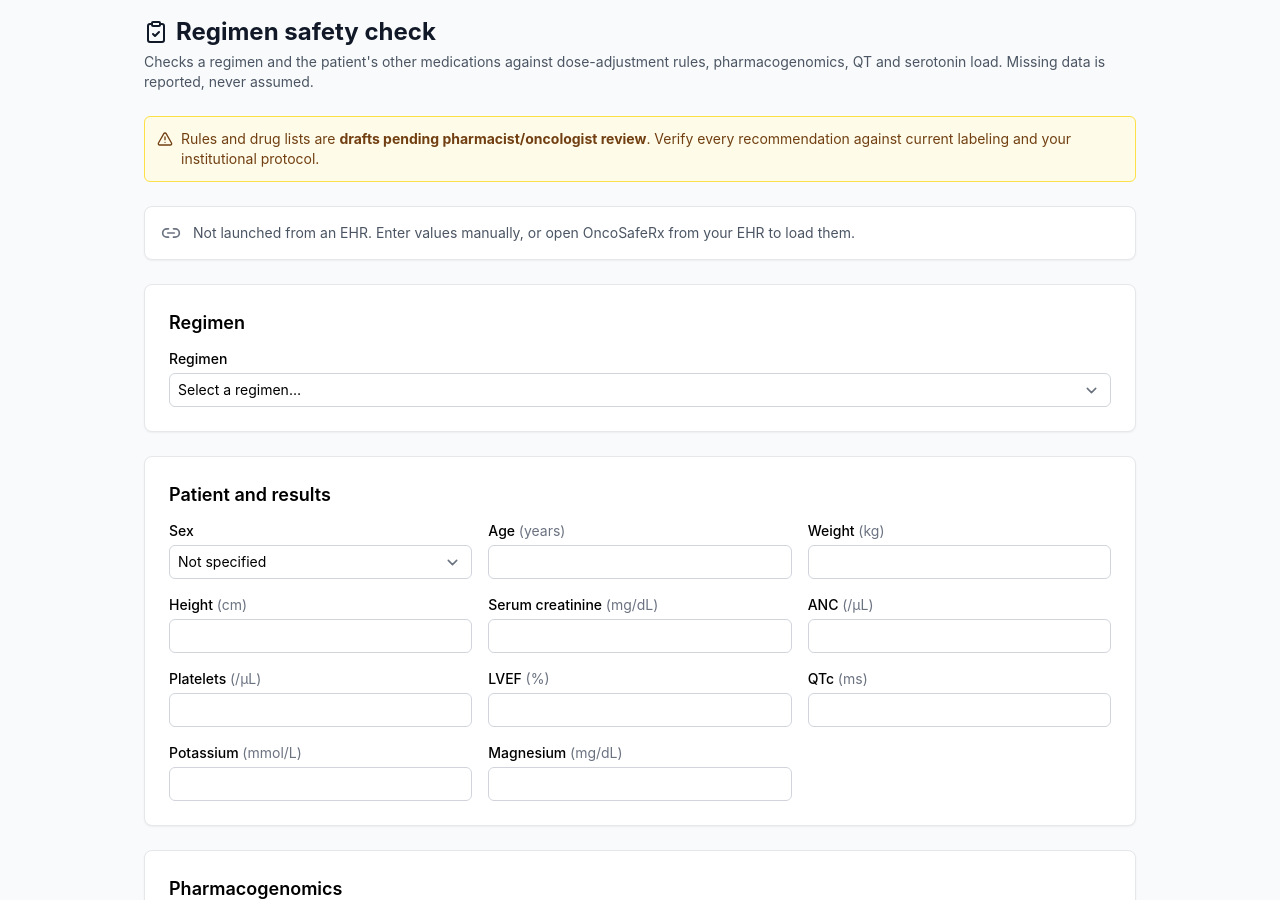
SafetyCheck page › acknowledging records an accept against the rule id and version
Expected: the text "Not launched from an EHR" is shown, [193,224,855,241]
Select "FOLFOX-6 — Colorectal cancer" in the dropdown labelled "Regimen" at point(640, 390), box [169,373,1111,407]
(page scrolled)
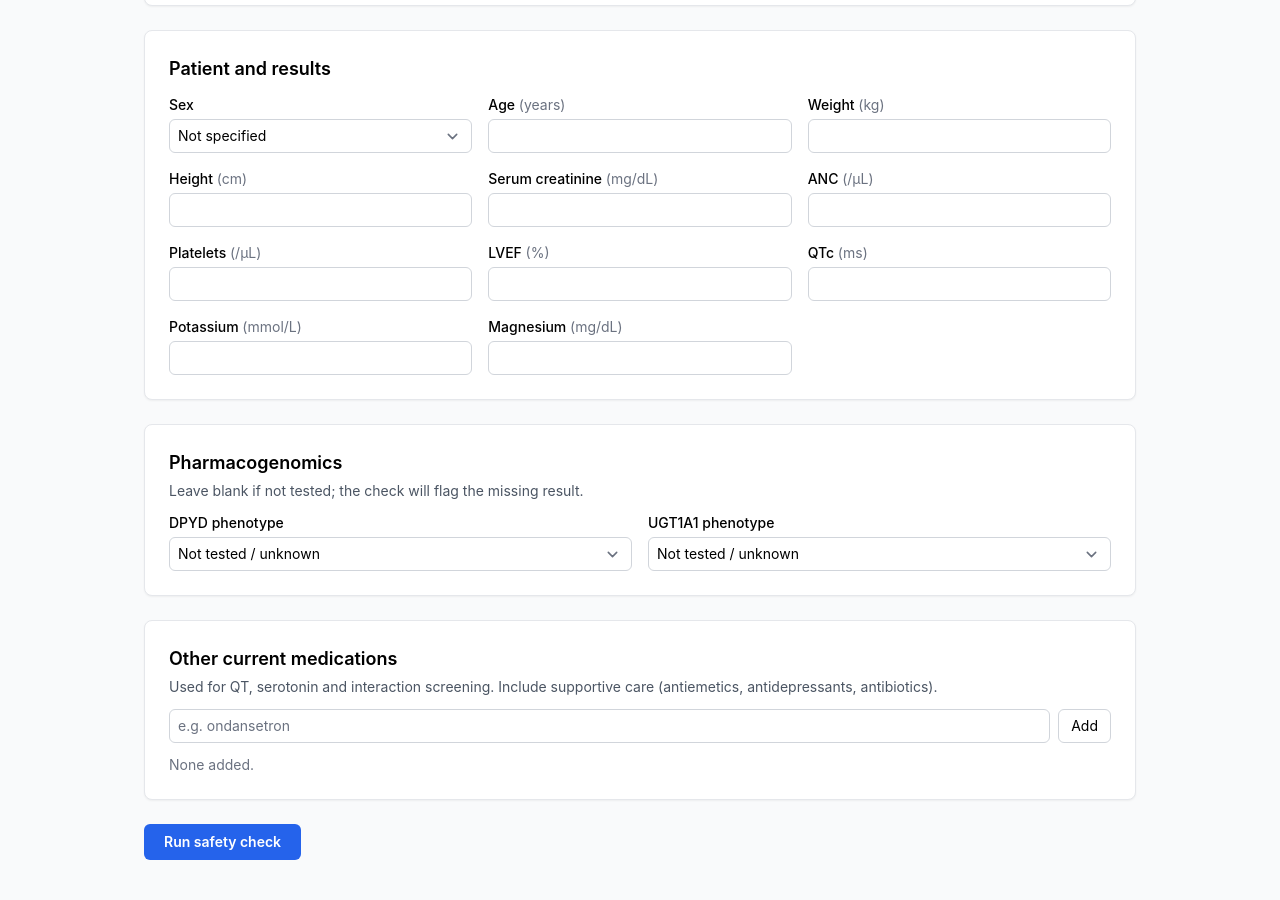
Click the button "Run safety check".
click(223, 842)  # box [144,824,301,860]
(page scrolled)
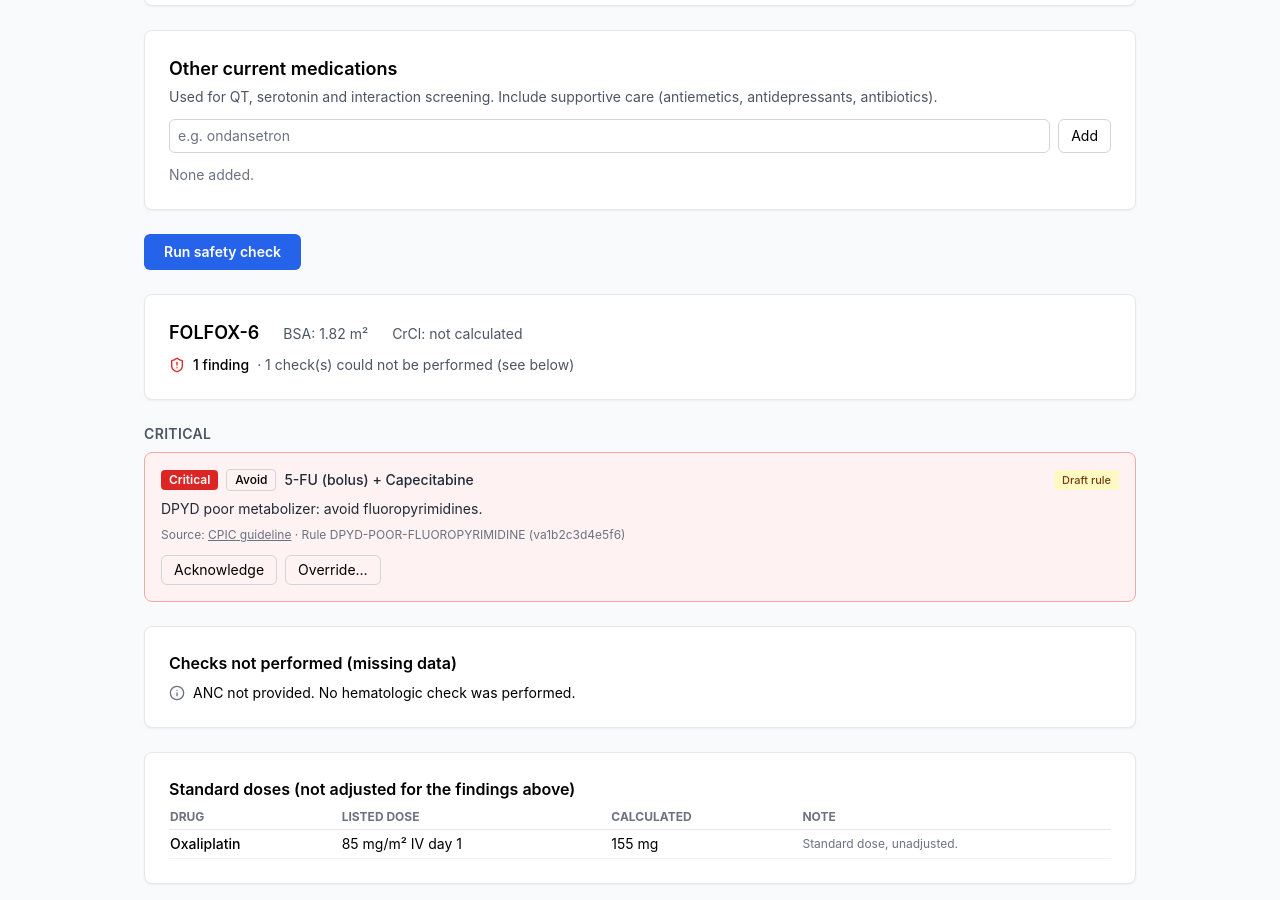
Result: the element with test id "summary" is shown at [169,356,574,373]
Click the button "Acknowledge".
click(219, 570)  # box [161,555,277,585]
(page scrolled)
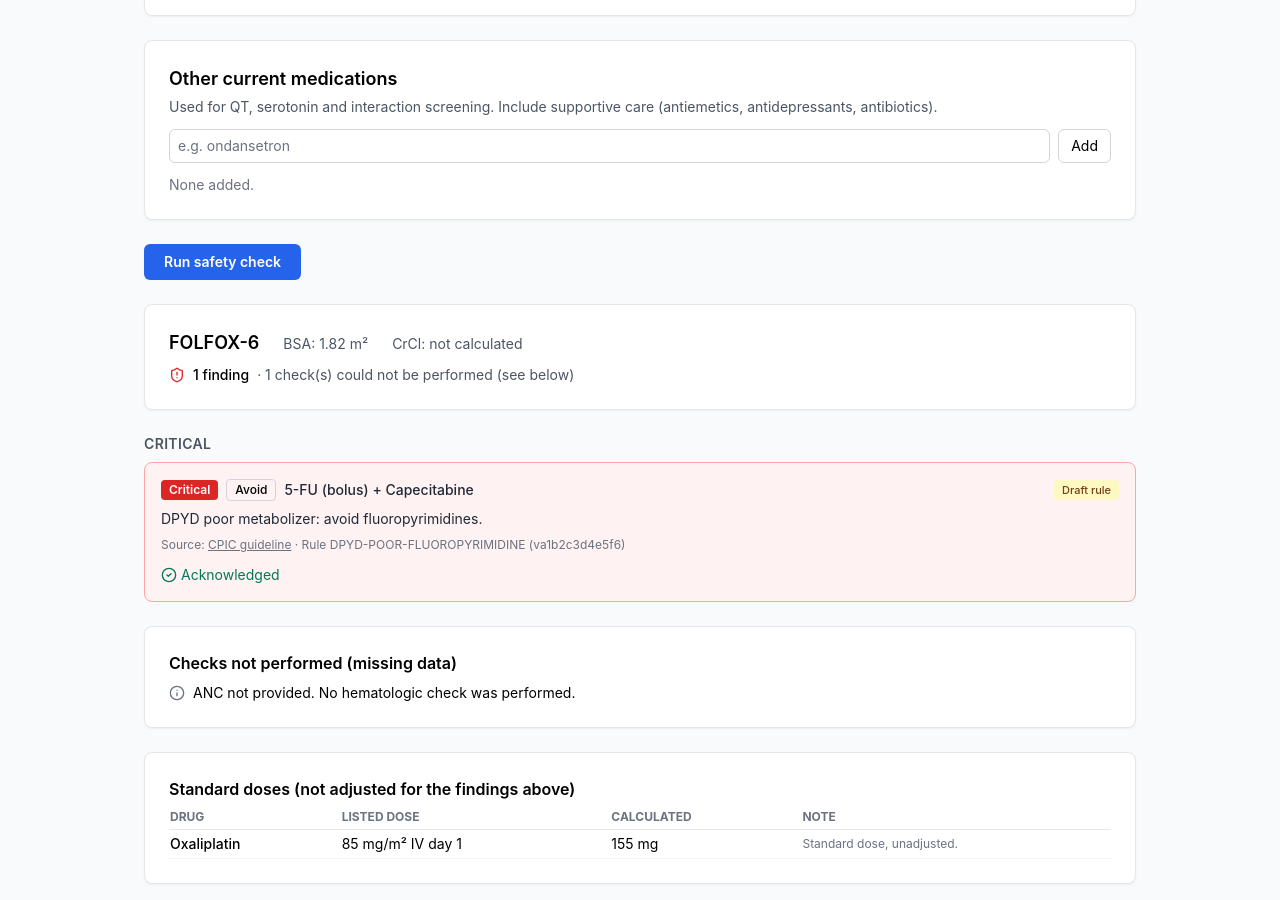
Result: the text "Acknowledged" is shown at [161,565,280,585]
